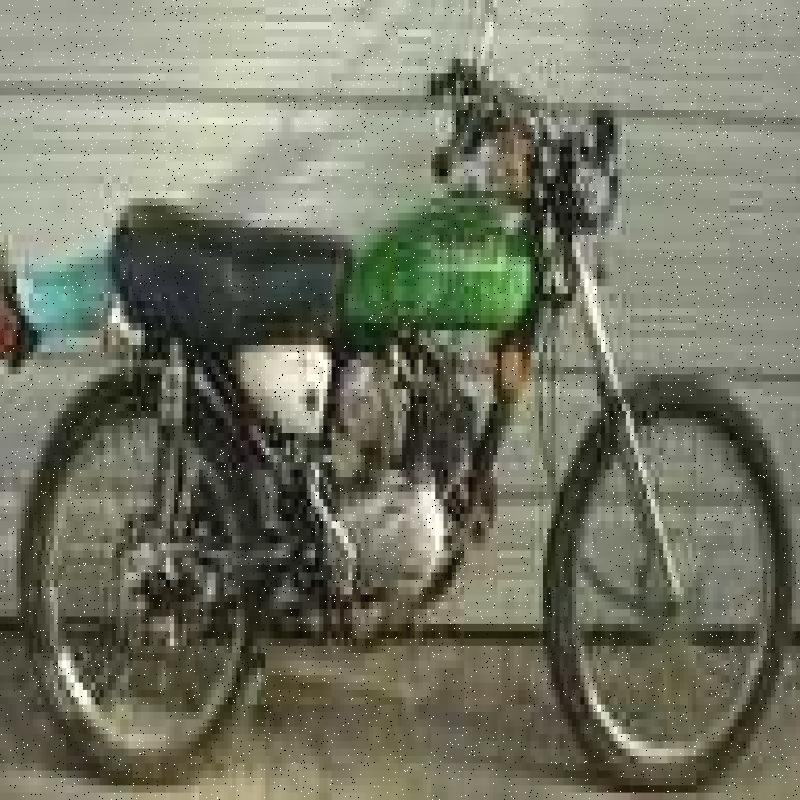bike: (25, 22, 800, 800)
